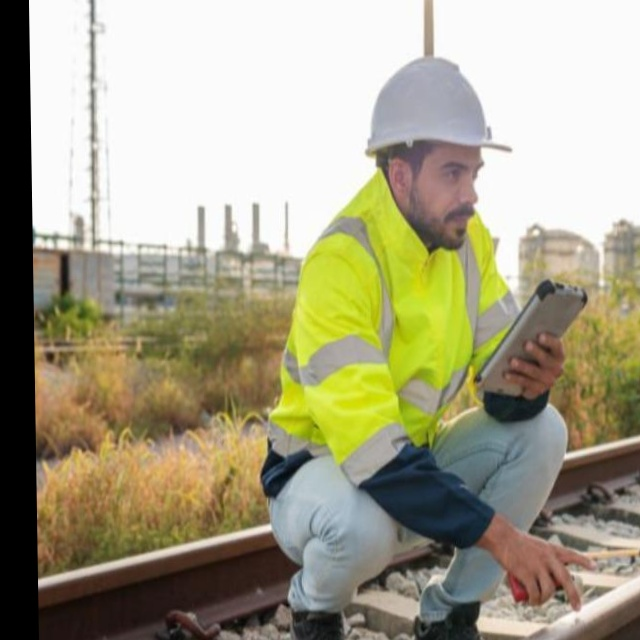Con_Casco: (366, 55, 512, 249)
